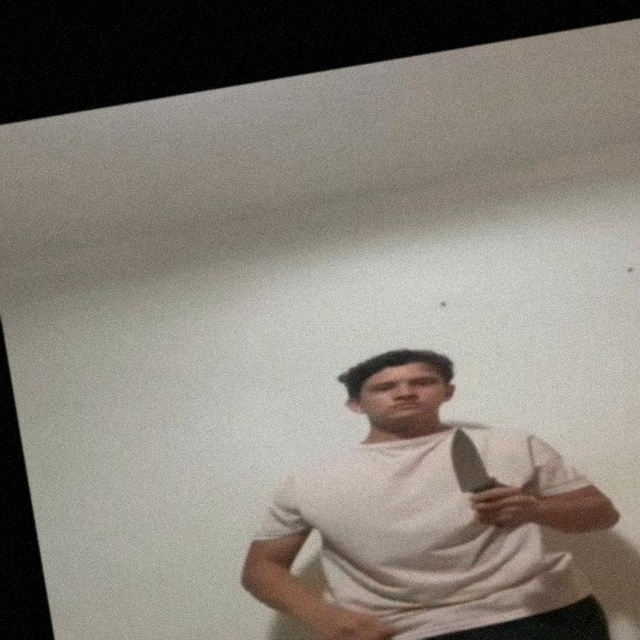Sharp-Object: (444, 422, 495, 494)
